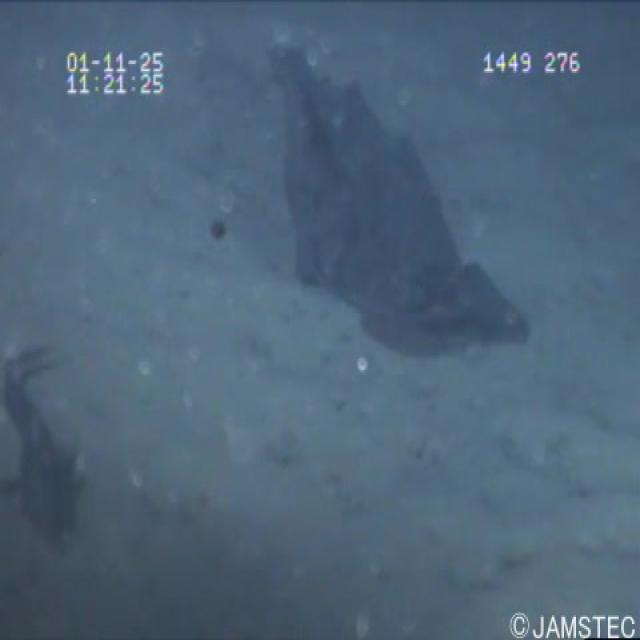plastic: (252, 32, 560, 396)
